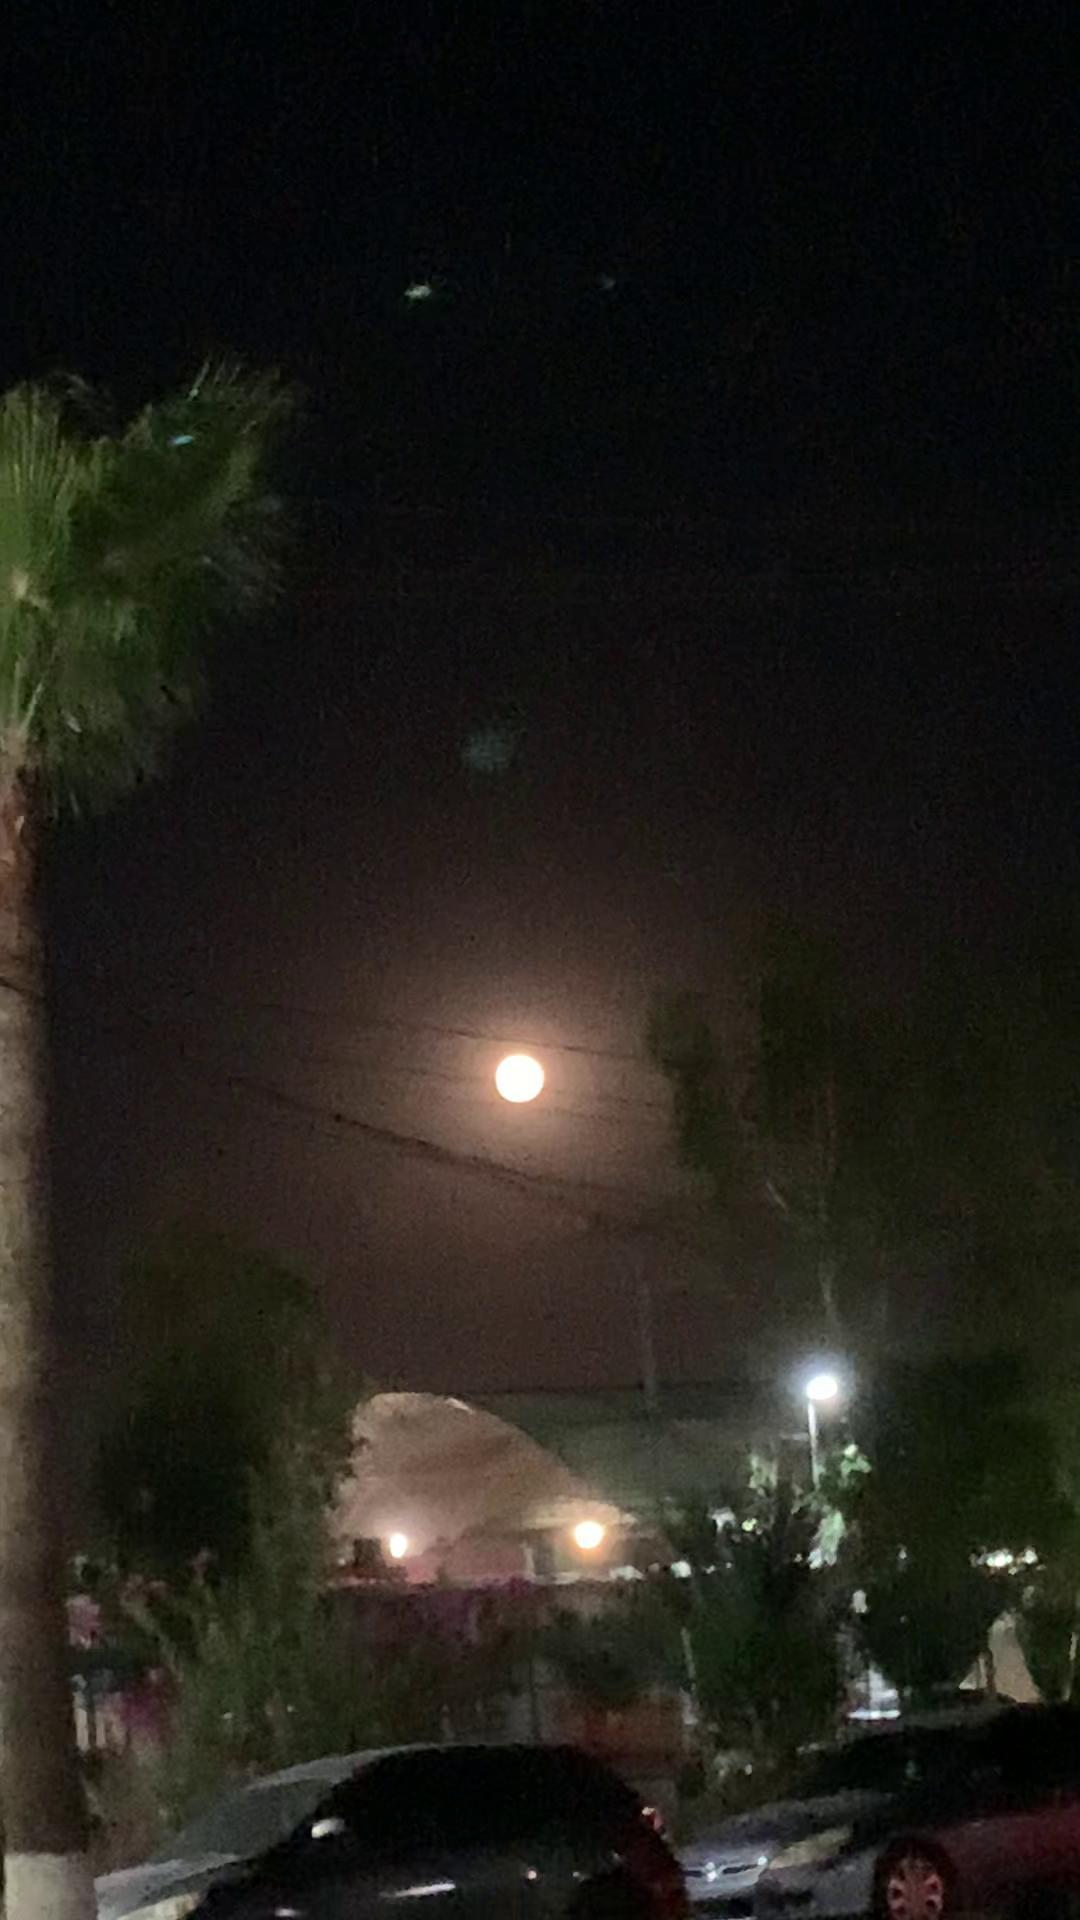moon: (479, 807, 571, 878)
